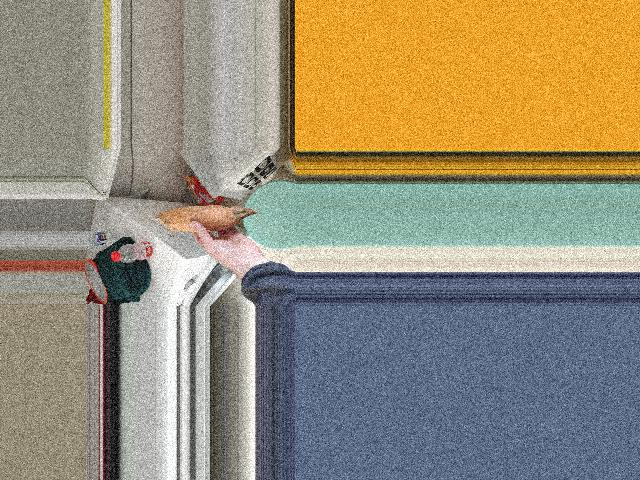sweet_potato: (169, 205, 254, 239)
